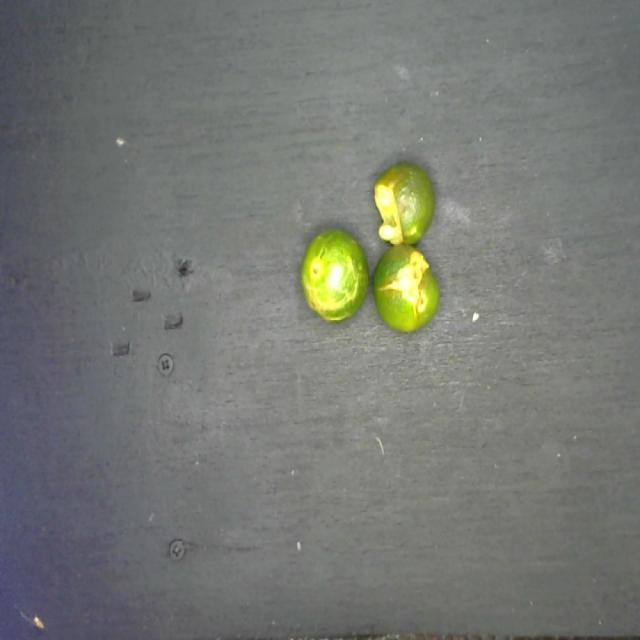biodegradable: (297, 148, 443, 344)
